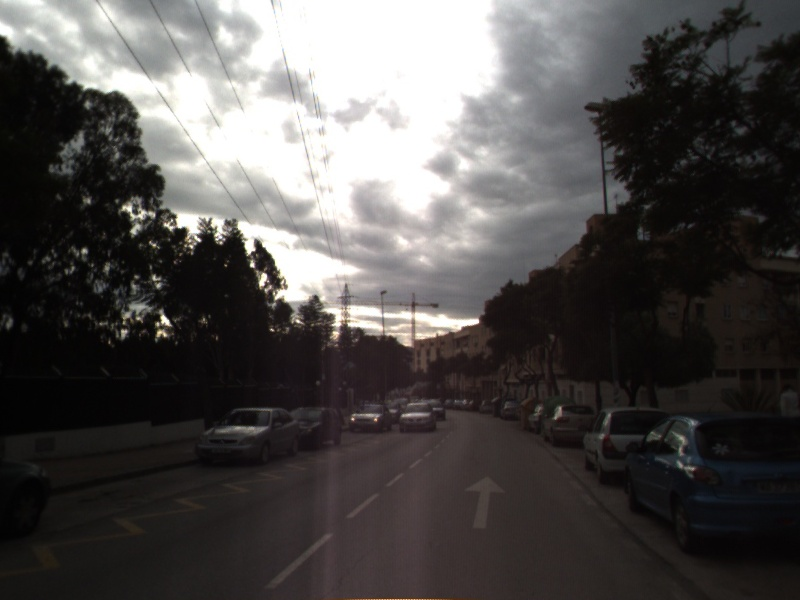STRAIGHT: (462, 474, 508, 530)
